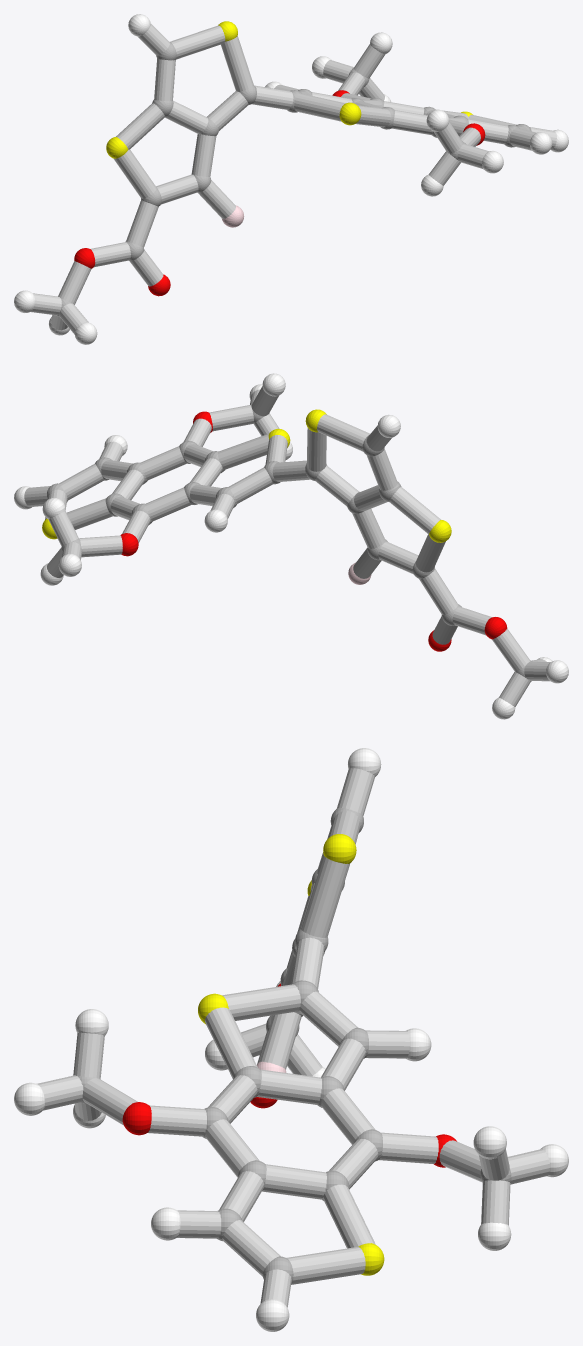
Rendered from color.glb.
The picture shows the model from 3 angles, top to bottom: view 1: azimuth 30°, elevation 25°; view 2: azimuth 150°, elevation 25°; view 3: azimuth 270°, elevation 25°; orthographic projection. The views are drawn at different scales.
Parts seen in each view (by area): view 1: grp15205, grp8689, grp1, grp7241, grp13395; view 2: grp15205, grp8689, grp1, grp13395, grp7241; view 3: grp15205, grp8689, grp1, grp7241, grp13395.
Boxes of the visible parts, x1,y1,x2,y2 form: grp15205: (31,23,556,334); grp8689: (14,14,568,344); grp1: (56,42,531,317); grp7241: (106,21,472,158); grp13395: (74,90,485,296); grp15205: (24,386,550,706); grp8689: (14,373,568,719); grp1: (47,403,532,681); grp13395: (120,411,507,651); grp7241: (42,409,451,542); grp15205: (37,768,550,1307); grp8689: (14,748,568,1331); grp1: (77,807,511,1283); grp7241: (198,834,384,1275); grp13395: (122,983,456,1167).
Bounding box in the file's own units: 16.59 × 8.26 × 9.97.
